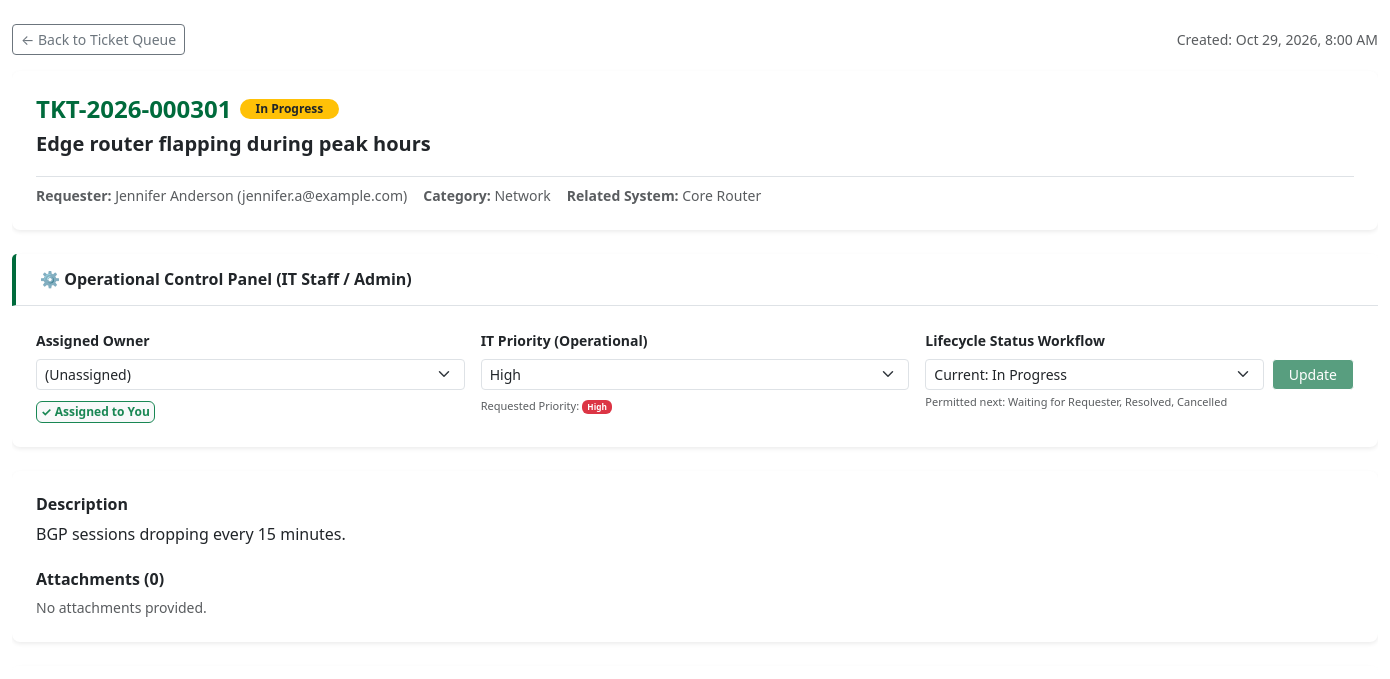
Test: Sprint 4 Issue 4: Ticket Workflow Hardening & Resolution Gate (FR-07, BR-10..13, AC-08) › displays server-side error alert when Resolution Gate rejects status update (FR-07, BR-11)
Select "Advance to: Resolved" in the dropdown with test id "staff-status-select": [1094, 374] box [925,359,1264,390]
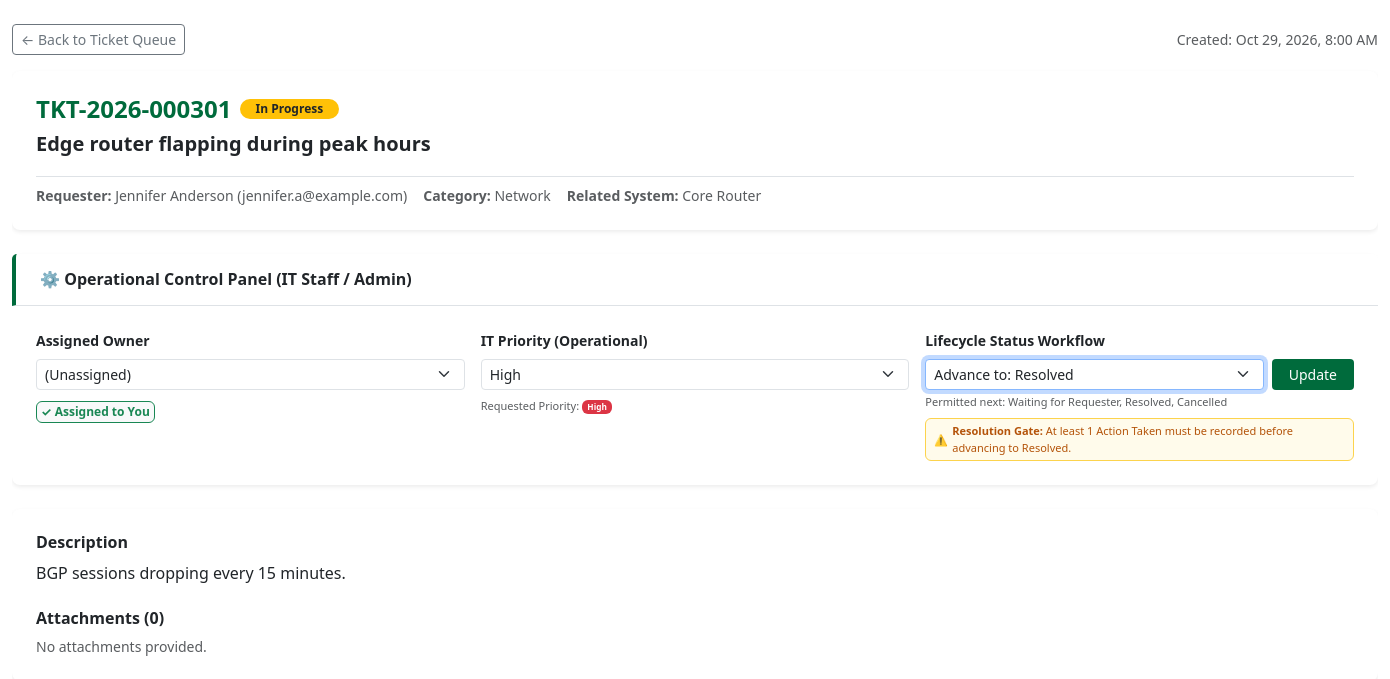
Click the button with test id "update-status-btn": [1313, 374] box [1272,359,1354,390]
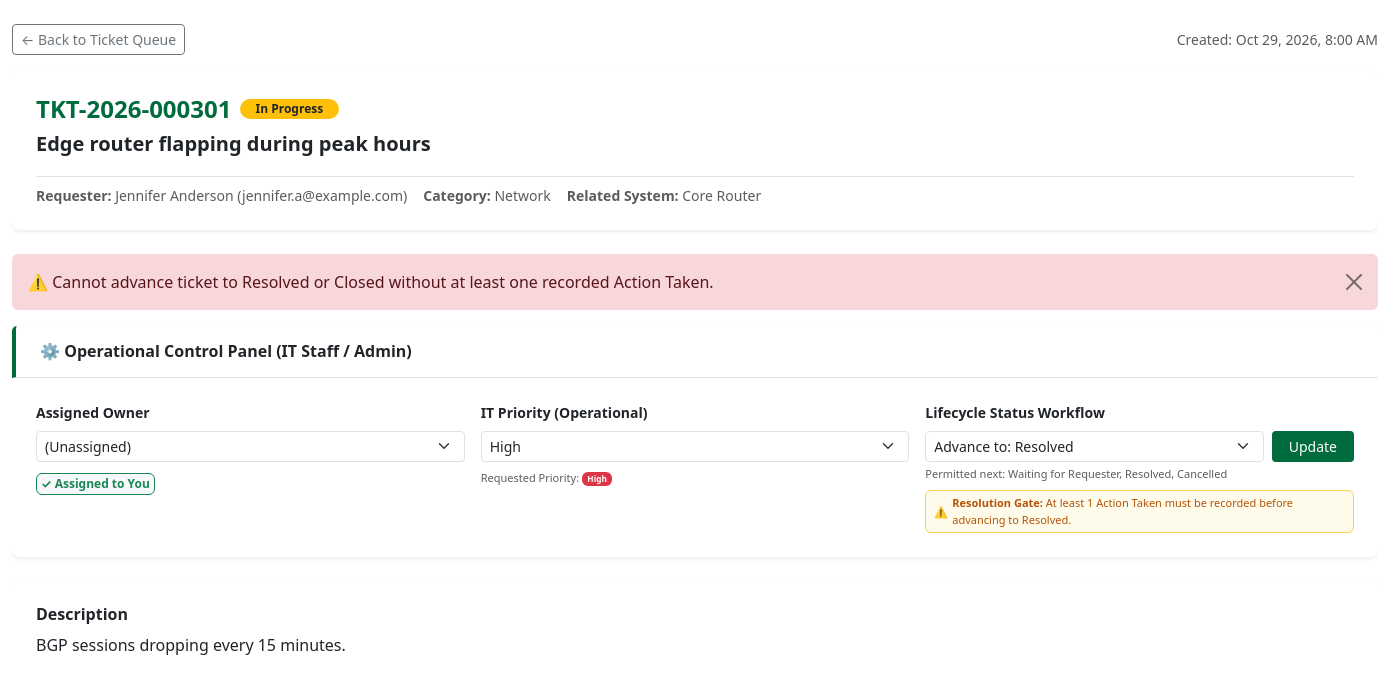
expect the message with test id "status-error-alert" is shown: met, box [12,254,1378,310]
expect the message with test id "status-error-alert" shows "Cannot advance ticket to Resolved or Closed without at least one recorded Action Taken.": met, box [52,271,714,293]
